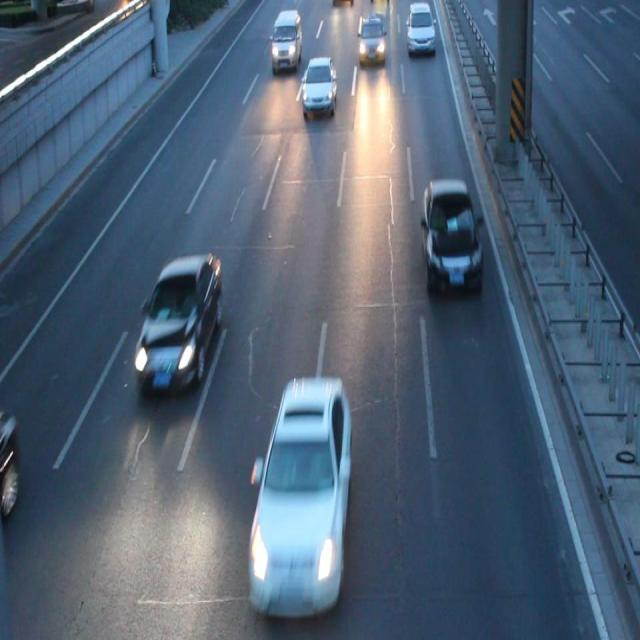car: (249, 380, 351, 604), (133, 253, 221, 392), (418, 178, 484, 292), (300, 58, 336, 116), (406, 1, 434, 54), (358, 17, 386, 65)
truck: (270, 9, 301, 70)
